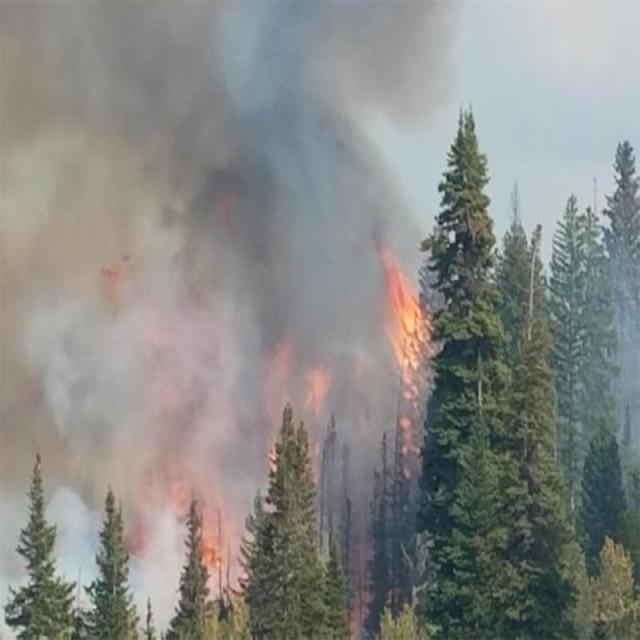Fire: (263, 340, 349, 477), (380, 278, 429, 426), (178, 484, 238, 592)
Smoke: (0, 0, 434, 586)
